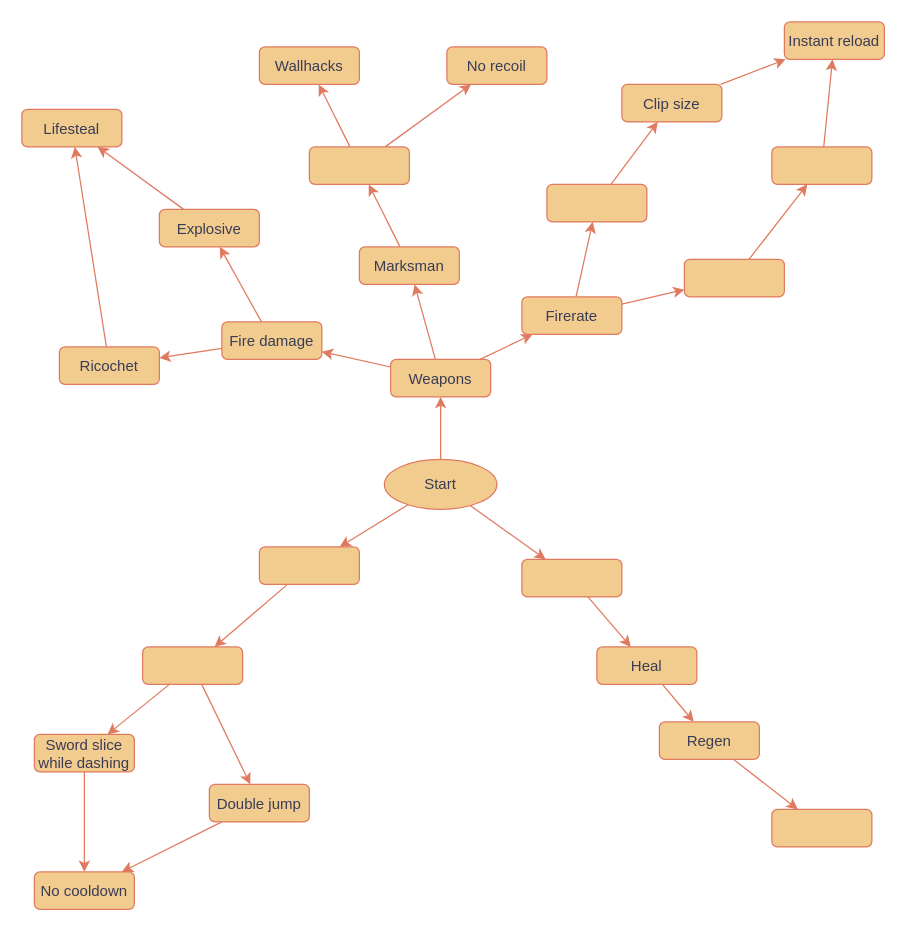
The diagram is 906 pixels wide and 931 high, and some of its shapes have lost their labels. The shapes that lost their labels are listed below. From the top down, each one's box as (x1, y1, x2, y2) in pixels, then its label:
(308, 146, 409, 184): Headshot mult
(771, 146, 872, 184): Endless ammo
(546, 183, 647, 222): Reload speed
(683, 258, 784, 297): Multi shot
(258, 546, 359, 584): Agility
(521, 558, 622, 597): Health
(141, 646, 243, 684): Dash
(771, 808, 872, 847): Reflect damage
